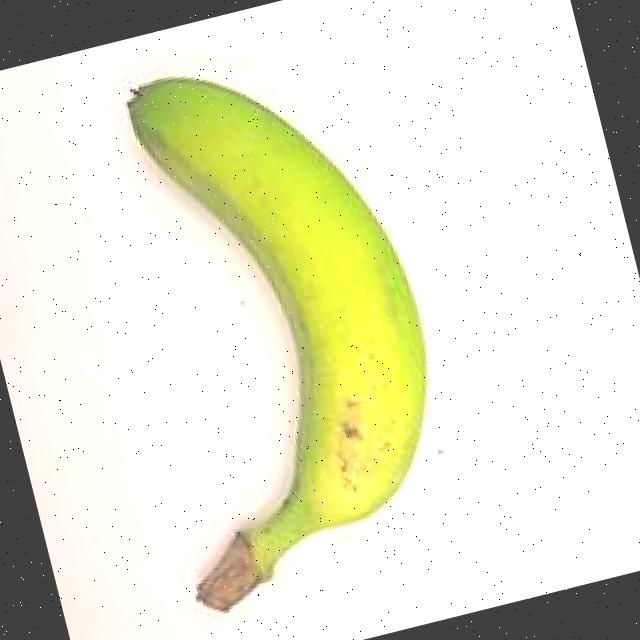Unripe: (48, 0, 510, 633)
